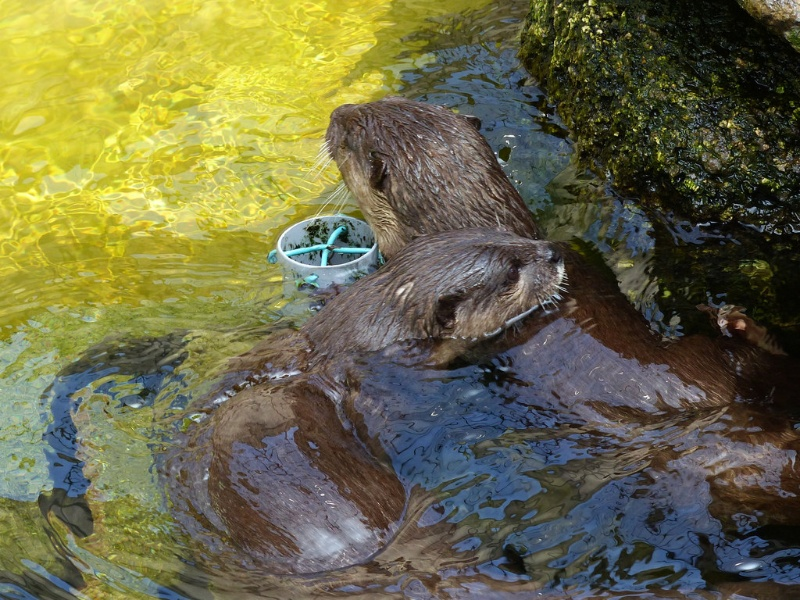minkish: (330, 99, 800, 491), (158, 229, 565, 591)
